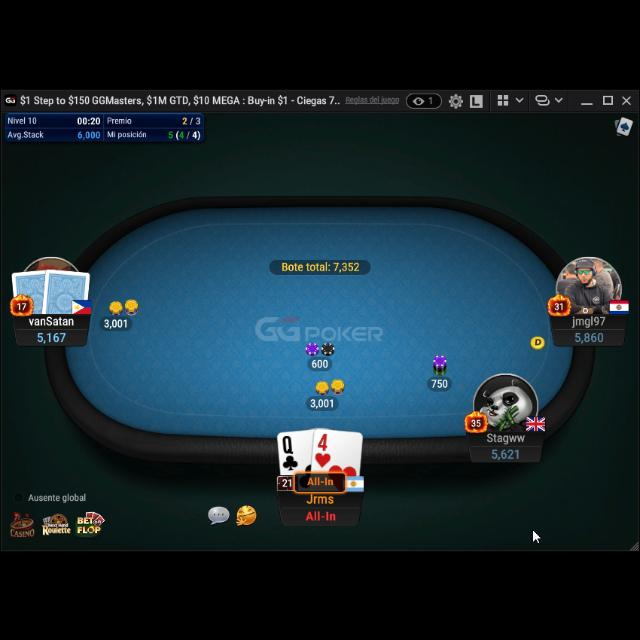4h: (314, 432, 334, 468)
Qc: (282, 434, 300, 472)
all_in_symbol: (304, 504, 338, 520)
bet_text: (309, 394, 335, 406), (429, 374, 449, 388), (102, 316, 128, 326), (310, 356, 330, 366)
card_back: (42, 264, 92, 314), (10, 266, 54, 312)
dealer: (528, 330, 548, 348)
pot_text: (280, 258, 360, 272)
stack_text: (574, 328, 606, 342), (36, 328, 66, 342), (490, 444, 520, 458)
